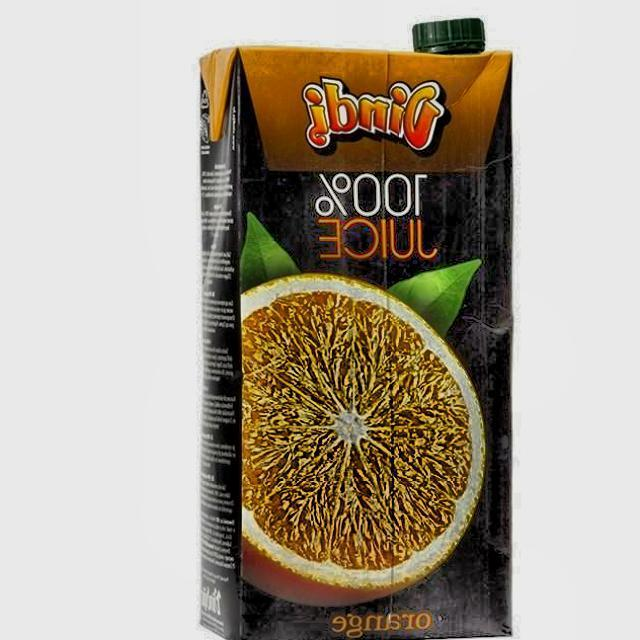cardboard: (198, 32, 516, 640)
